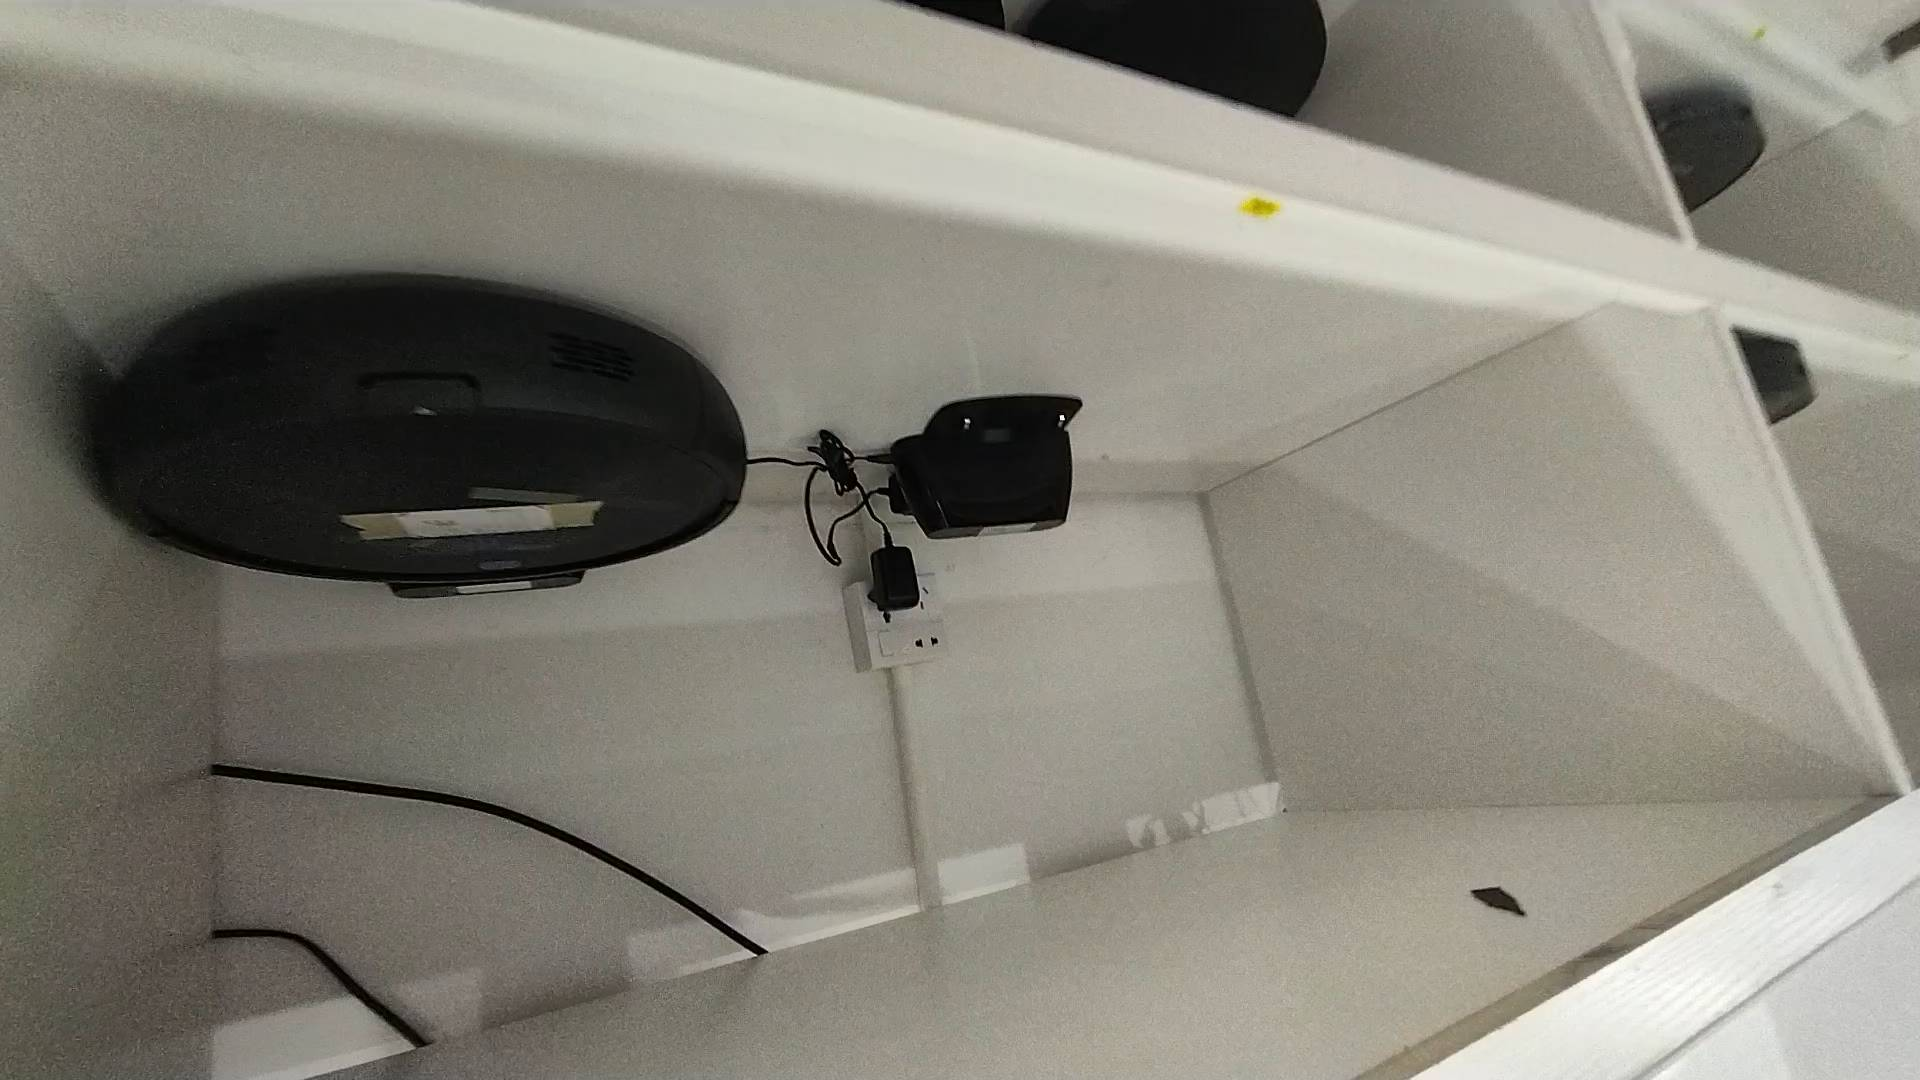recharge seat: (891, 396, 1083, 541)
